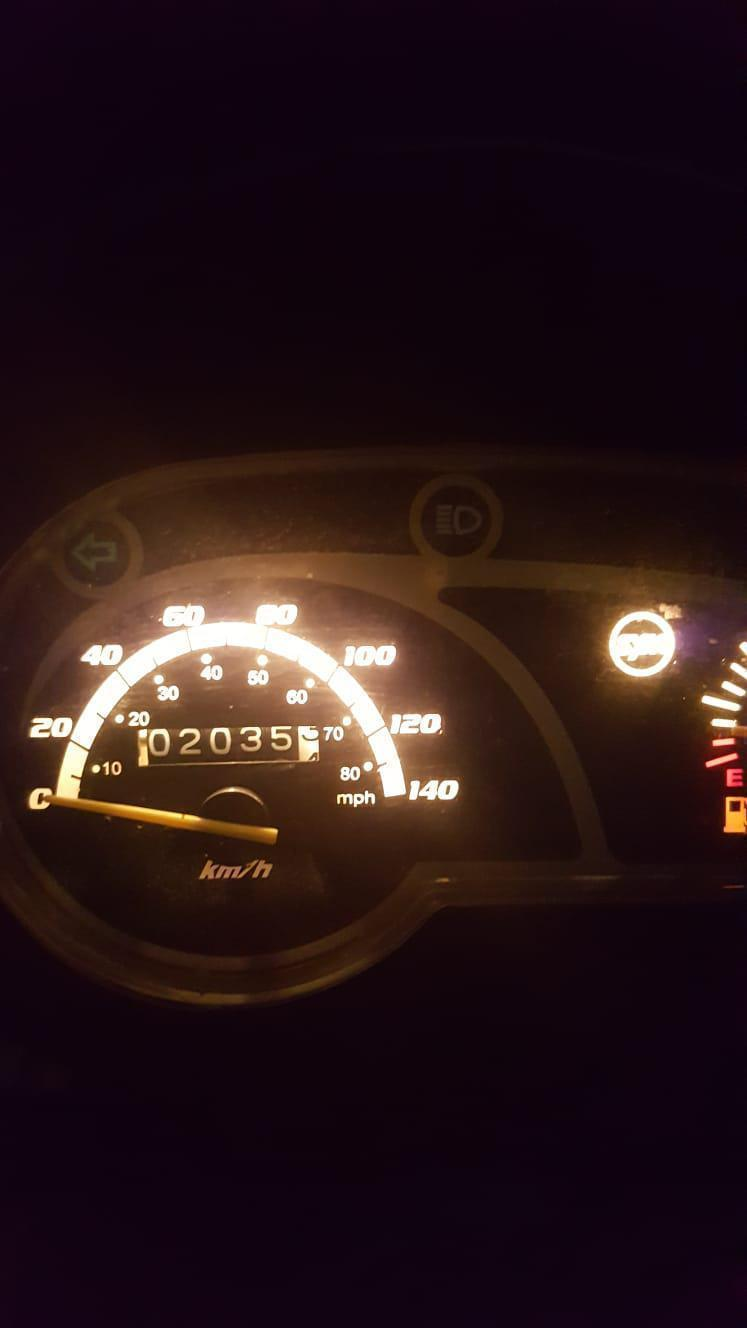0: (209, 726, 233, 756), (147, 728, 170, 757)
2: (176, 727, 203, 757)
3: (237, 726, 262, 753), (300, 724, 320, 746)
5: (269, 725, 294, 751)
odometer: (135, 724, 322, 767)
